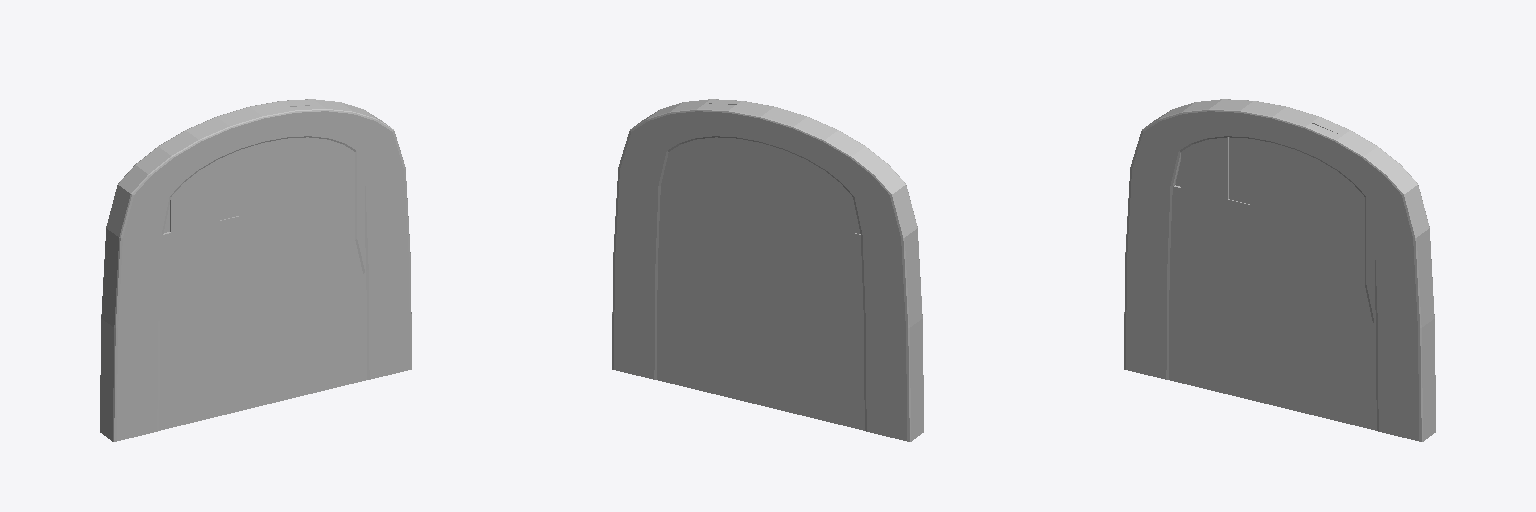
File: arco.obj
3 renders of one model, left to right at view 1: azimuth 30°, elevation 25°; view 2: azimuth 150°, elevation 25°; view 3: azimuth 330°, elevation 25°, orthographic.
Visible parts, largest first — view 1: arco_Material.010; view 2: arco_Material.010; view 3: arco_Material.010.
Part boxes in pixels (bbox=[...]): arco_Material.010: bbox=[100, 99, 411, 441]; arco_Material.010: bbox=[612, 99, 923, 441]; arco_Material.010: bbox=[1124, 99, 1435, 441].
Size of the model in its own units: 9.69 by 8.93 by 0.835.